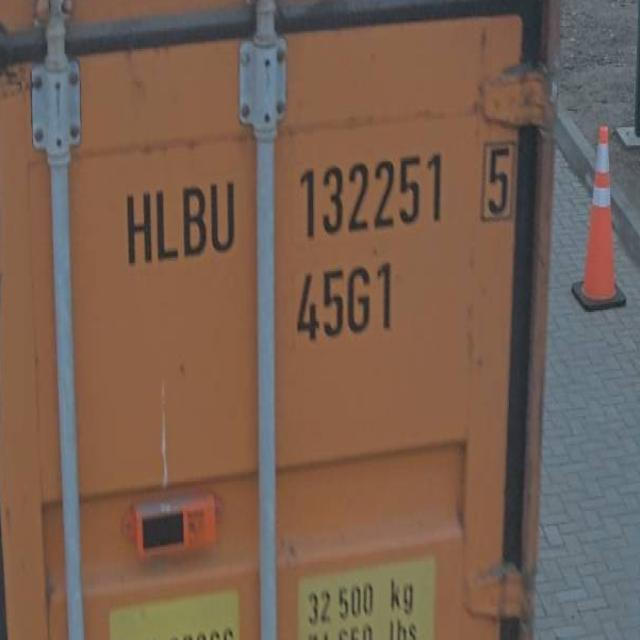dv: (475, 130, 514, 227)
owner: (117, 173, 244, 273)
serial: (295, 136, 448, 245)
size: (289, 258, 401, 349)
